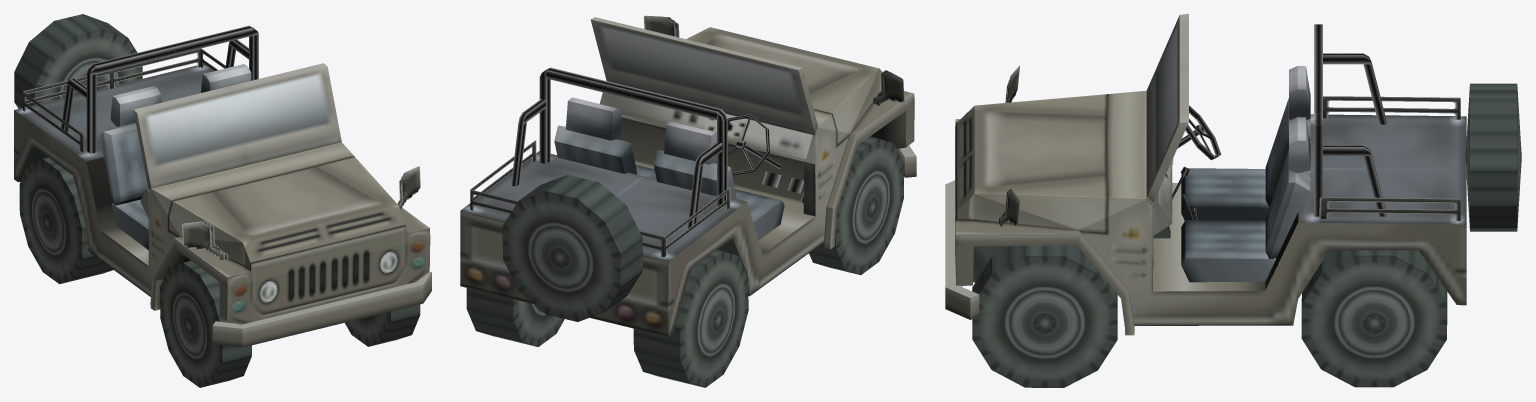
File: jeep.obj
The picture shows the model from 3 angles, left to right: view 1: azimuth 30°, elevation 25°; view 2: azimuth 150°, elevation 25°; view 3: azimuth 270°, elevation 25°; orthographic projection. The views are drawn at different scales.
Size of the model in its own units: 226 by 203 by 403.
Materials: 1 (1 with a texture image).
